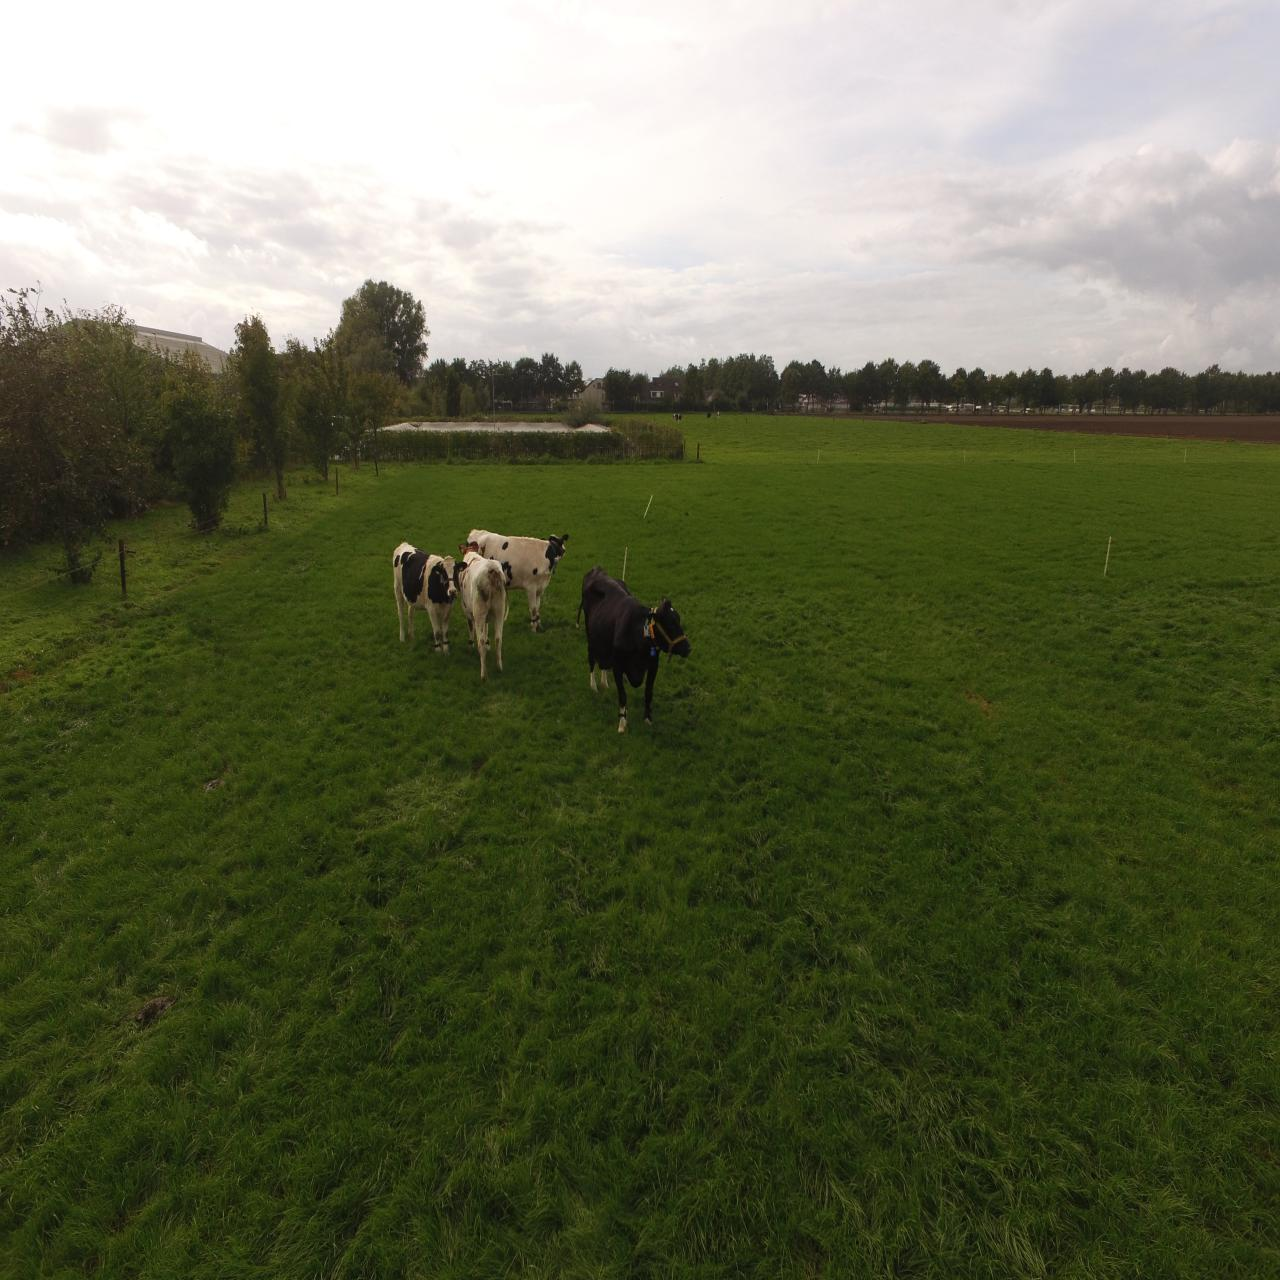cow: (576, 564, 692, 734), (465, 530, 568, 634), (389, 540, 461, 659), (456, 538, 508, 679)
